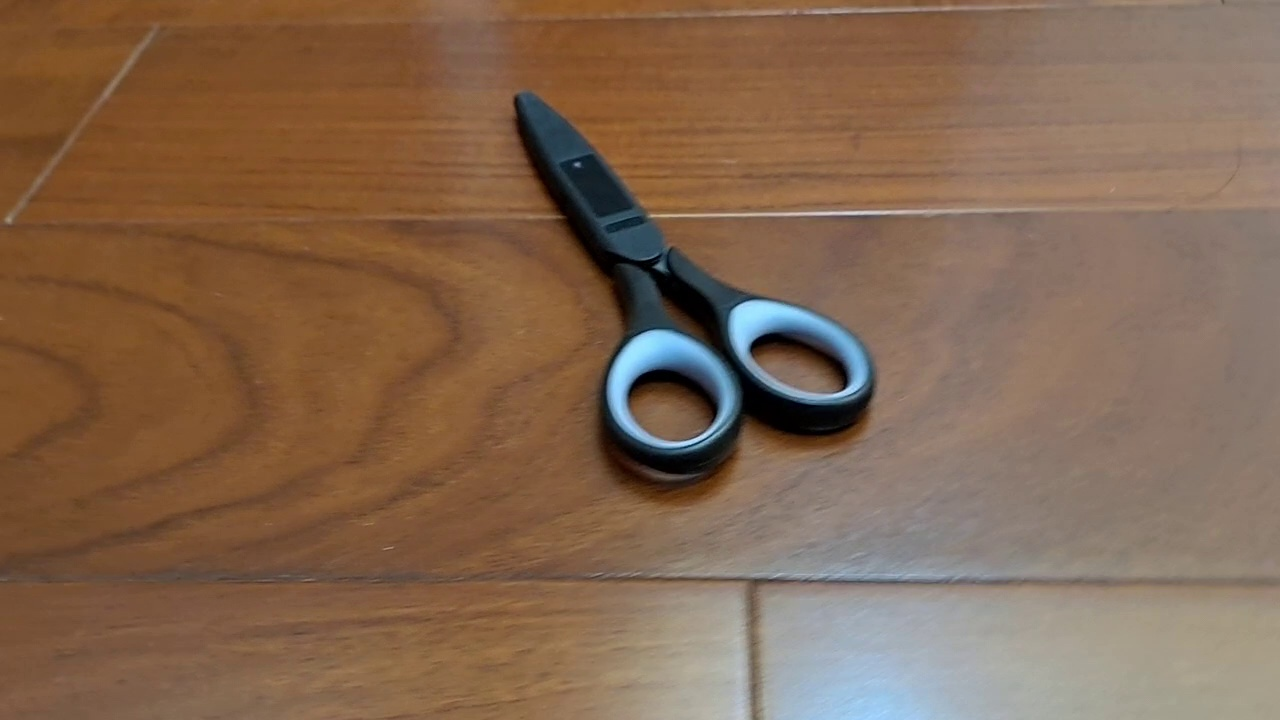scissors: (512, 88, 878, 477)
